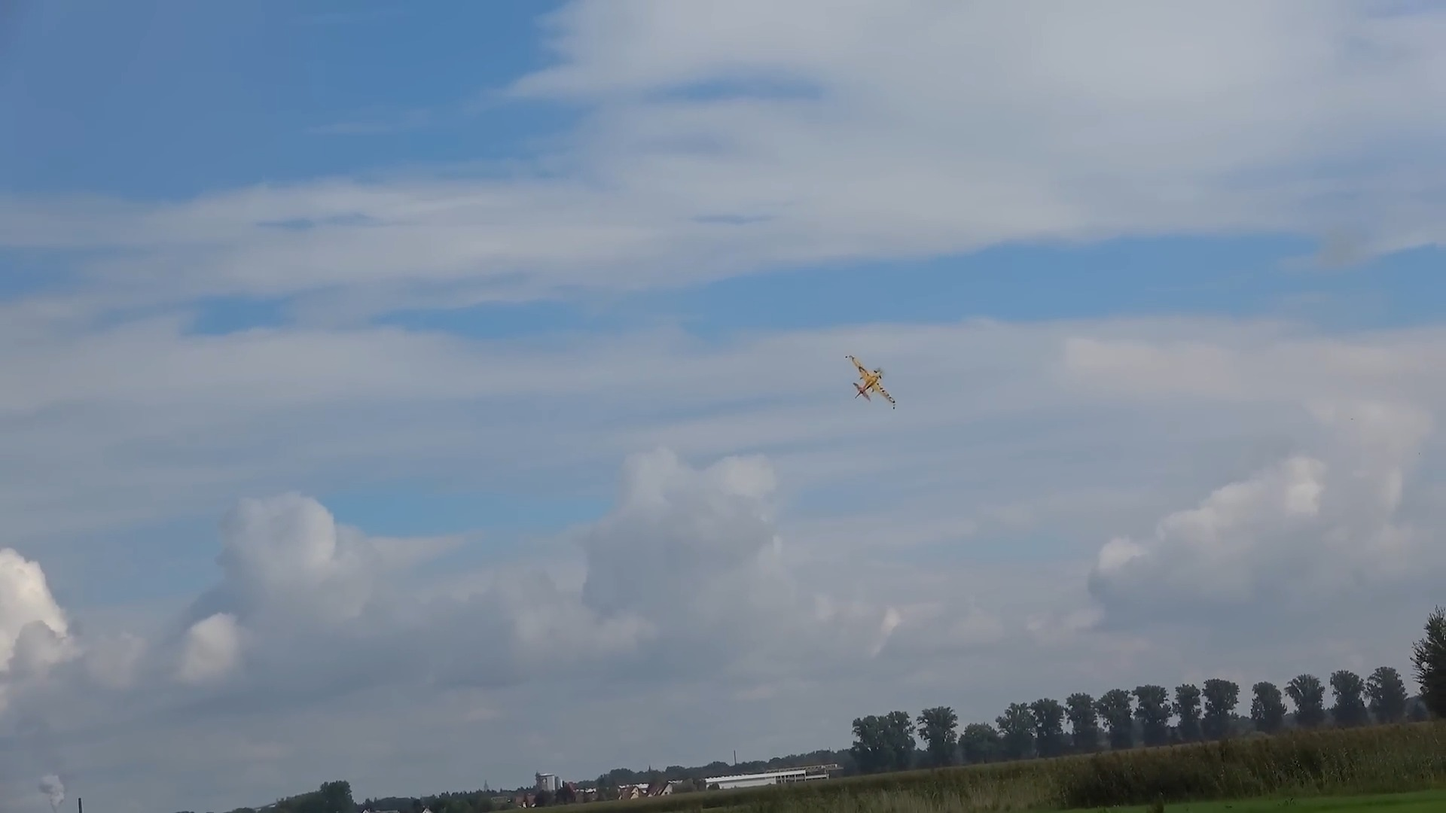airplane: (835, 345, 899, 410)
